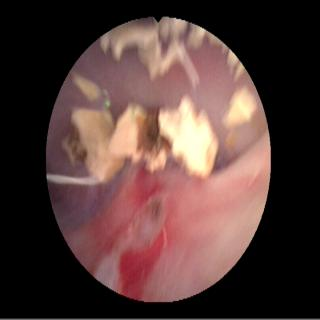stone: (61, 96, 219, 184), (100, 20, 186, 81), (222, 87, 257, 127), (72, 74, 100, 101)
tissue: (48, 86, 265, 297), (75, 47, 235, 122)
